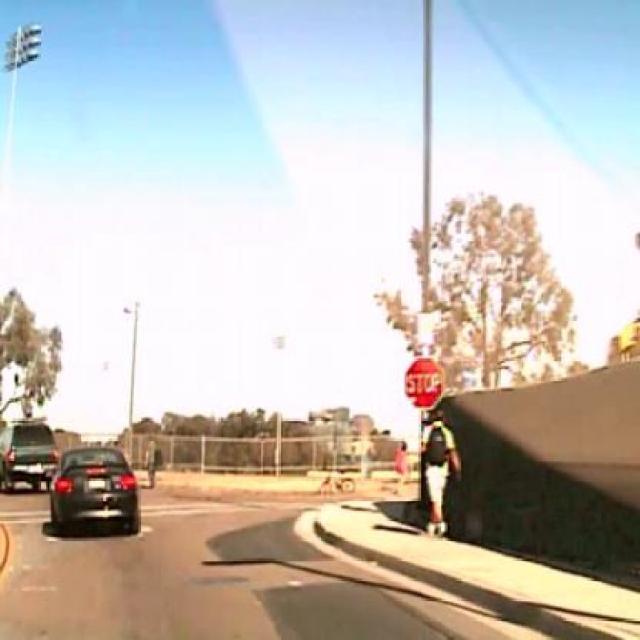stop: (404, 355, 444, 409)
